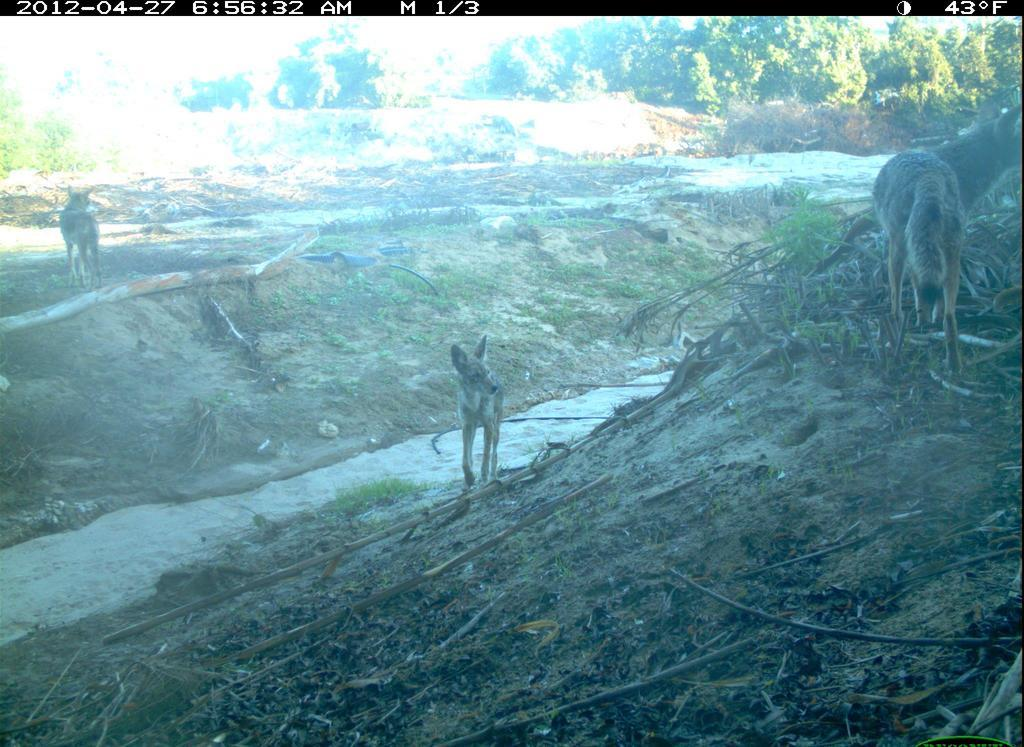coyote: (849, 136, 995, 388), (419, 336, 529, 511), (43, 185, 126, 313)
